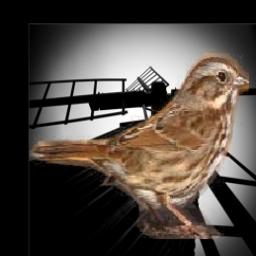Sparrow: (30, 49, 249, 239)
